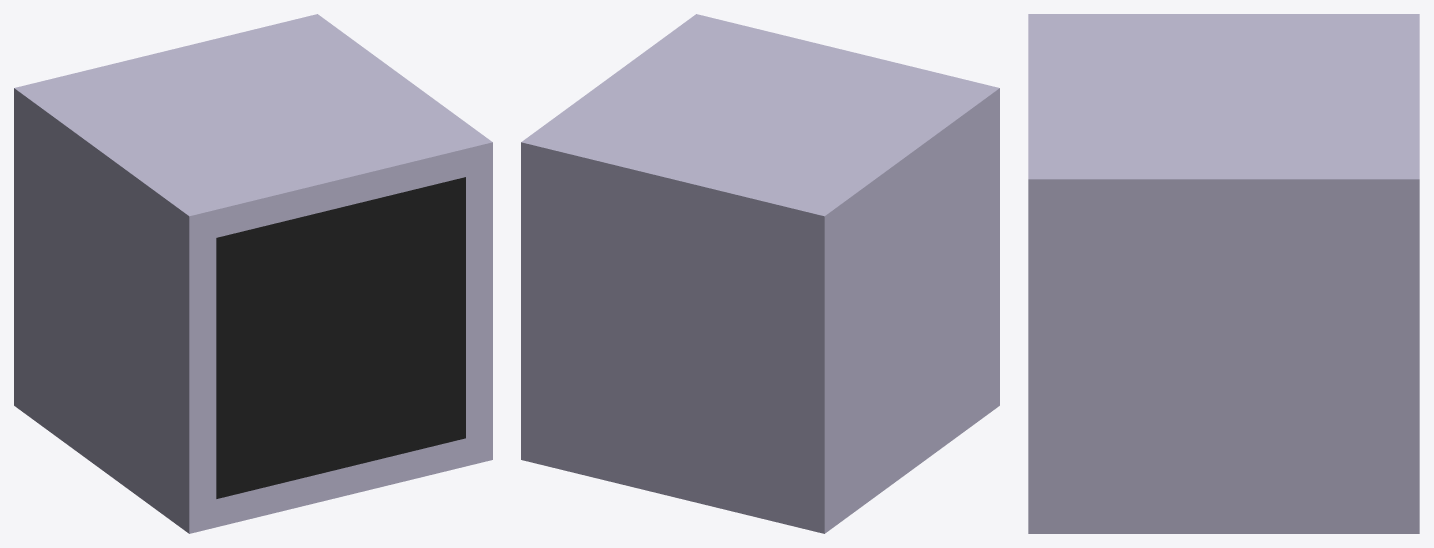
Rendered from border cube inset front.fbx.
3 views of the same model, side by side, from view 1: azimuth 30°, elevation 25°; view 2: azimuth 150°, elevation 25°; view 3: azimuth 270°, elevation 25° (orthographic). The views are drawn at different scales.
Visible parts, largest first — view 1: Border Cube.001; view 2: Border Cube.001; view 3: Border Cube.001.
Part boxes in pixels (left/top/right/bottom): Border Cube.001: left=14, top=14, right=492, bottom=533; Border Cube.001: left=521, top=14, right=999, bottom=533; Border Cube.001: left=1028, top=14, right=1419, bottom=533.
Size of the model in its own units: 100 by 100 by 100.
